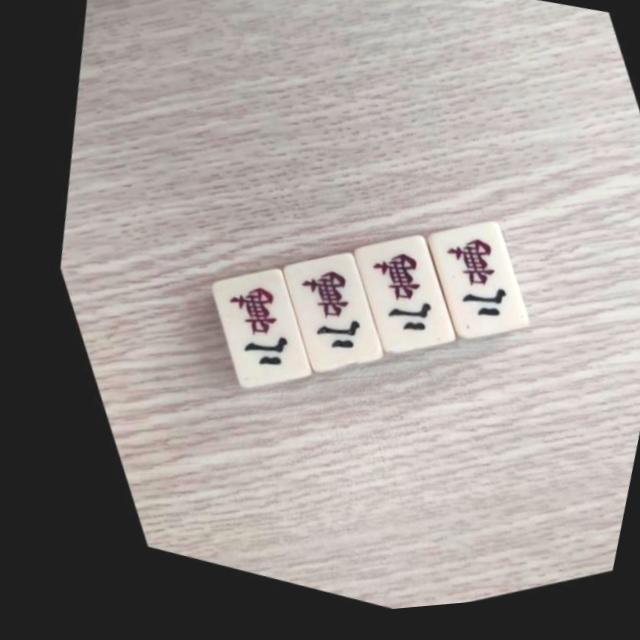sc2: (173, 256, 320, 412), (247, 243, 390, 395), (323, 229, 461, 377), (398, 217, 535, 363)
